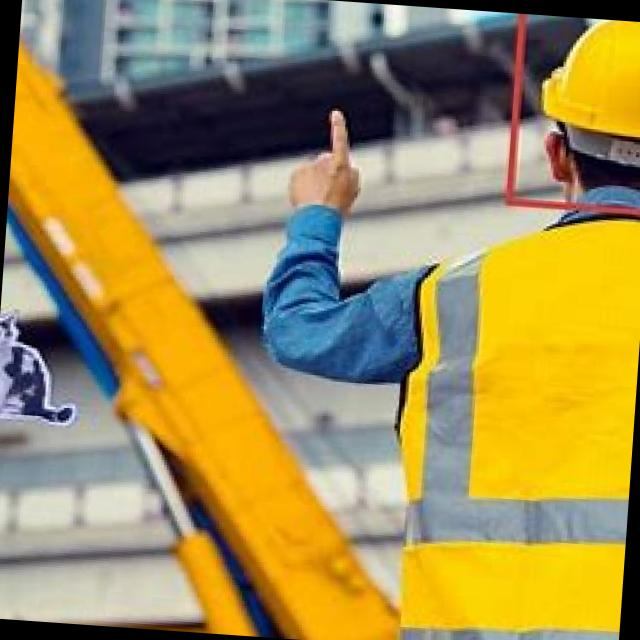not-gloved: (288, 101, 366, 224)
